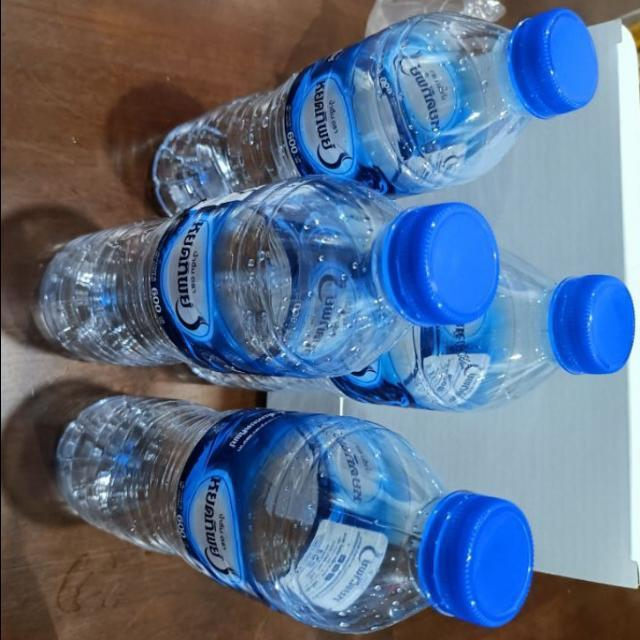PET Bottle: (40, 371, 510, 639), (105, 0, 607, 207), (30, 184, 504, 359), (394, 228, 640, 394)
